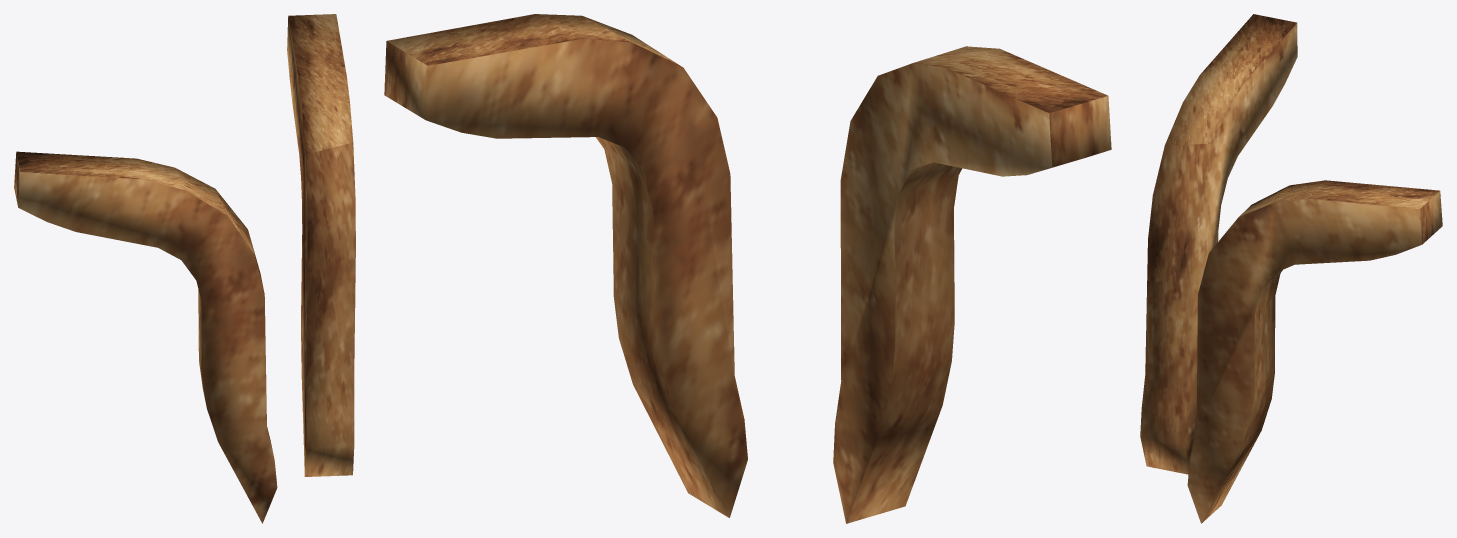
Rendered from house_pillar_b.glb.
3 renders of one model, left to right at view 1: azimuth 30°, elevation 25°; view 2: azimuth 150°, elevation 25°; view 3: azimuth 270°, elevation 25°, orthographic. The views are drawn at different scales.
Visible parts, largest first — view 1: dark-wall-wood.png__; view 2: dark-wall-wood.png__; view 3: dark-wall-wood.png__.
Boxes of the visible parts, x1,y1,x2,y2 form: dark-wall-wood.png__: (14,14,355,523); dark-wall-wood.png__: (384,14,1111,523); dark-wall-wood.png__: (1140,14,1442,523).
Size of the model in its own units: 6.66 by 5.69 by 4.34.
Materials: 1 (1 with a texture image).
